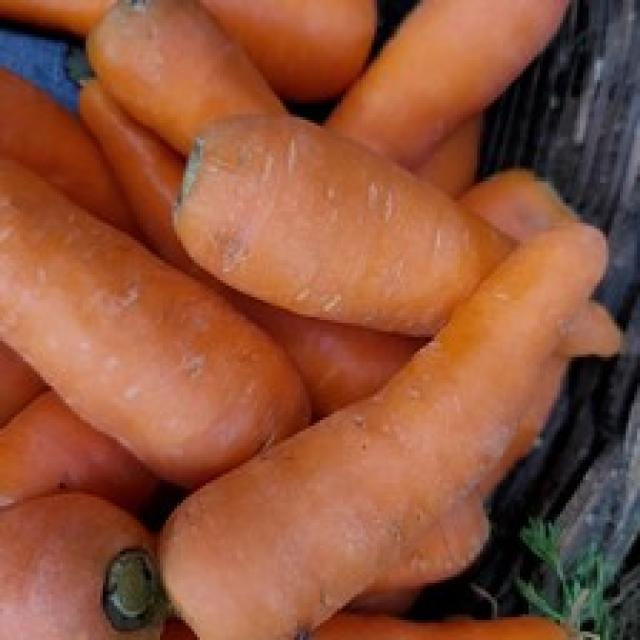Fresh_Carrot: (77, 16, 560, 395), (0, 135, 343, 634), (238, 216, 622, 640), (184, 118, 632, 364)
